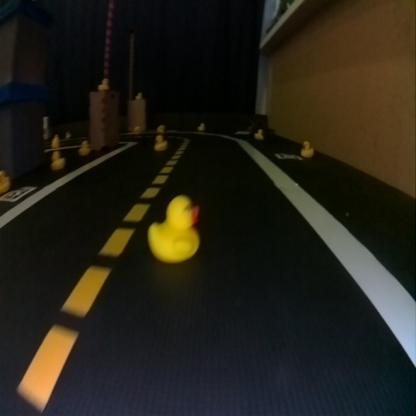Duckie: (149, 197, 196, 256), (300, 139, 313, 157), (1, 171, 10, 192), (153, 135, 167, 148), (52, 152, 64, 167), (78, 142, 90, 154), (98, 77, 106, 89), (254, 128, 262, 139), (156, 124, 162, 133), (198, 123, 204, 130), (134, 124, 138, 132), (136, 93, 140, 99)
QR code: (0, 186, 32, 200), (276, 150, 301, 158)
